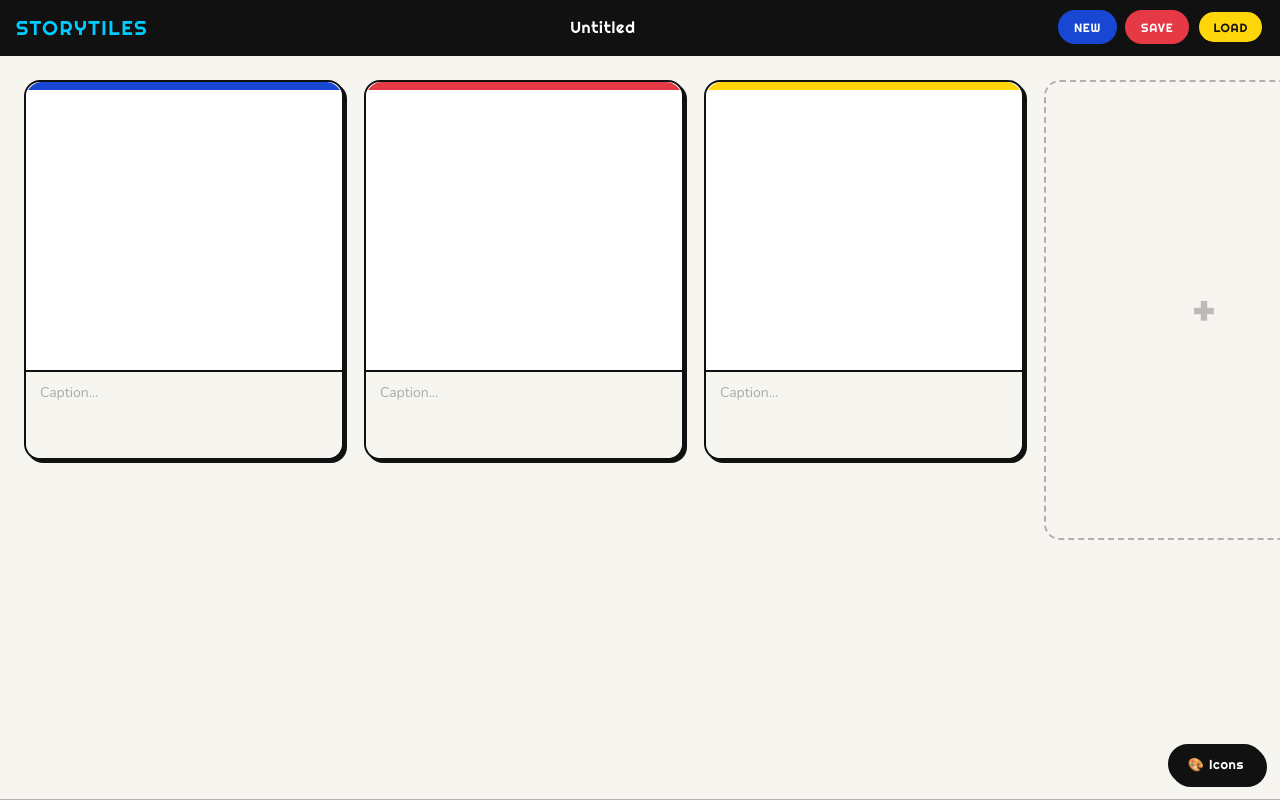
Test case: canceling save confirm dismisses dialog
Step 1. Click the button "Save" → (1157,27), box left=1125, top=10, right=1189, bottom=44
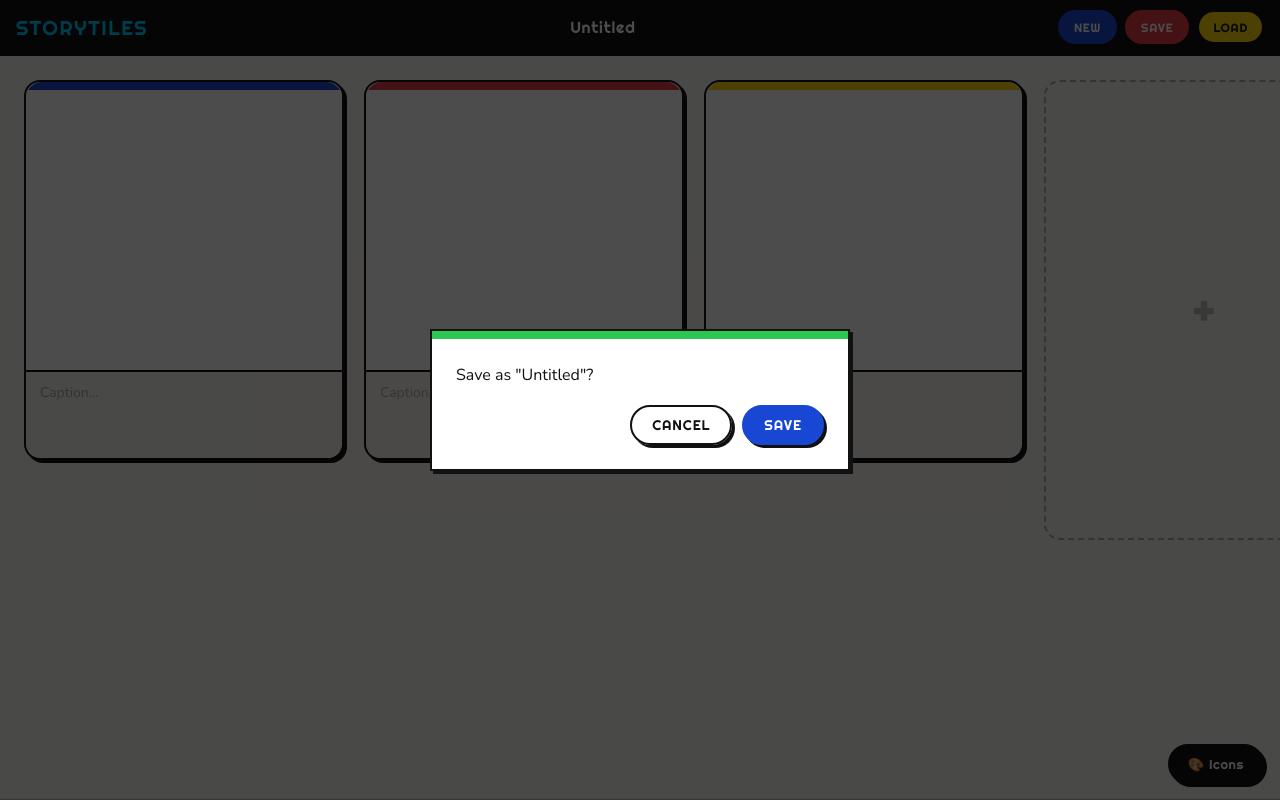
Step 2. Click the button with class "btn-ghost" → (681,425), box left=630, top=405, right=732, bottom=445
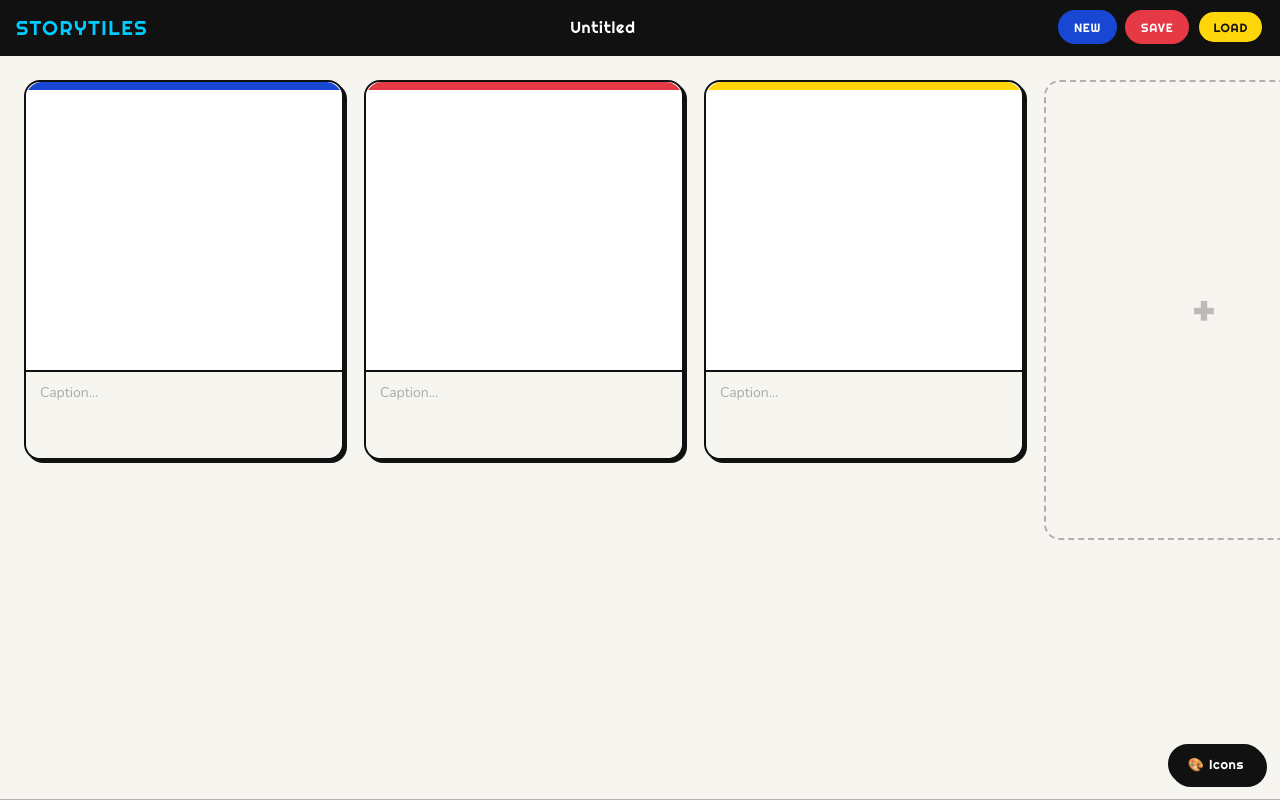
Now the text "Save as" is gone
